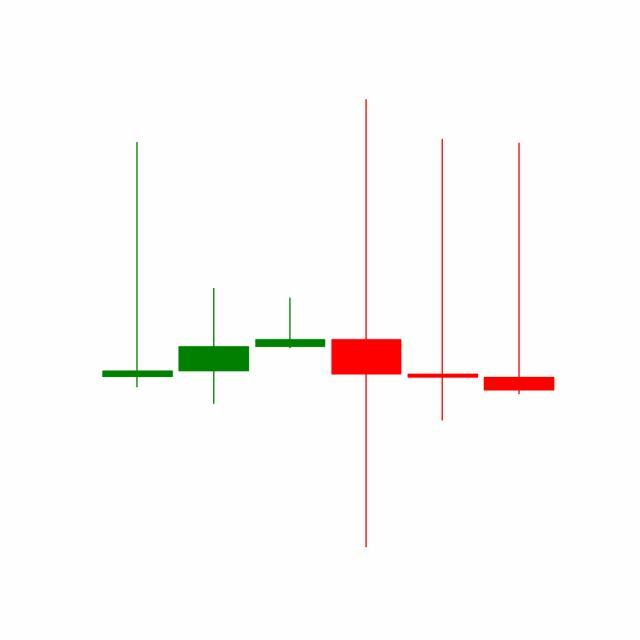Spinning Top: (404, 136, 482, 425)
